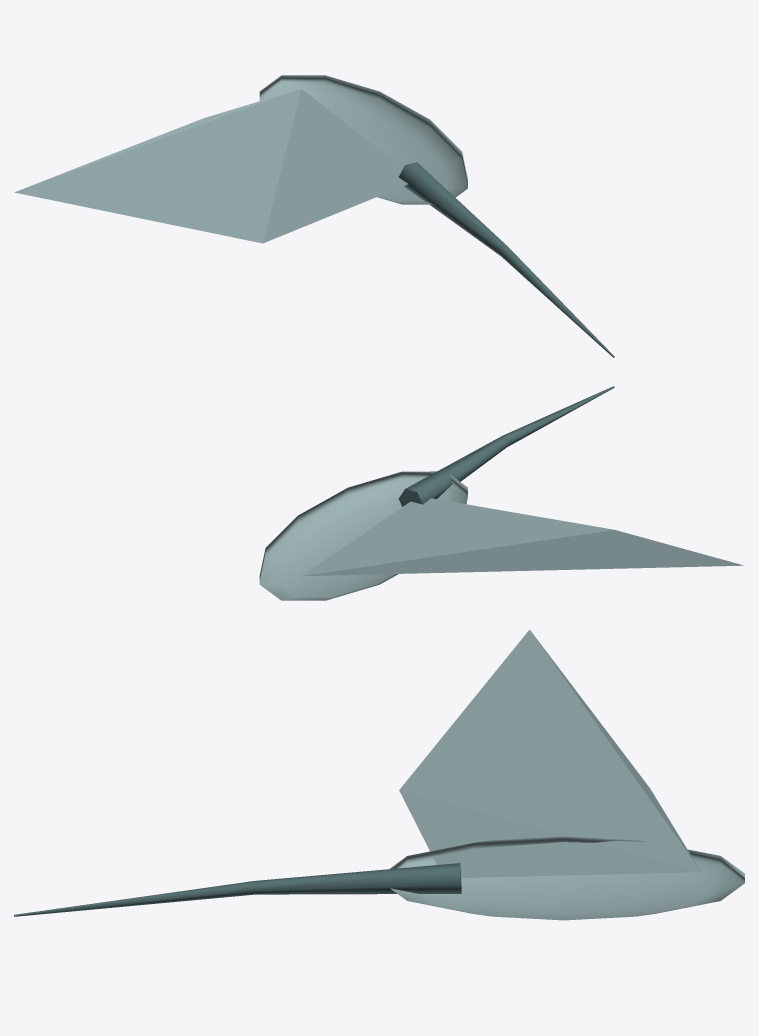
The model's file is ray.glb.
3 views of the same model, one above another, from view 1: azimuth 30°, elevation 25°; view 2: azimuth 150°, elevation 25°; view 3: azimuth 270°, elevation 25° (orthographic). The views are drawn at different scales.
Visible parts, largest first — view 1: ray; view 2: ray; view 3: ray.
Boxes of the visible parts, x1=… form: ray: x1=14, y1=75, x2=614, y2=357; ray: x1=259, y1=386, x2=743, y2=600; ray: x1=14, y1=629, x2=744, y2=920.
Size of the model in its own units: 2.7 by 0.2926 by 2.13.
